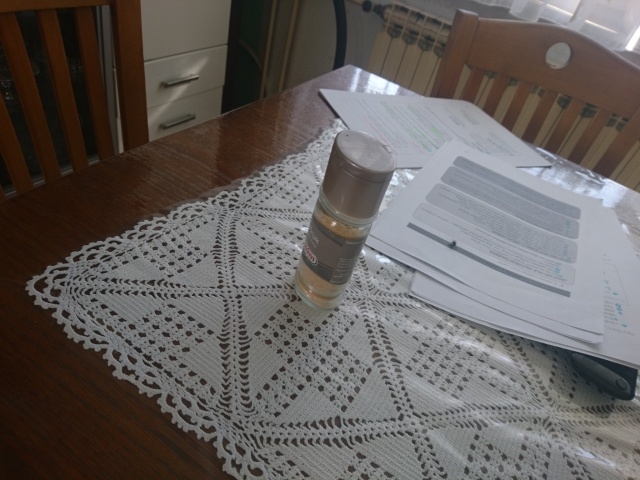Kotanyi Garlic Granules 70g: (290, 127, 399, 314)
